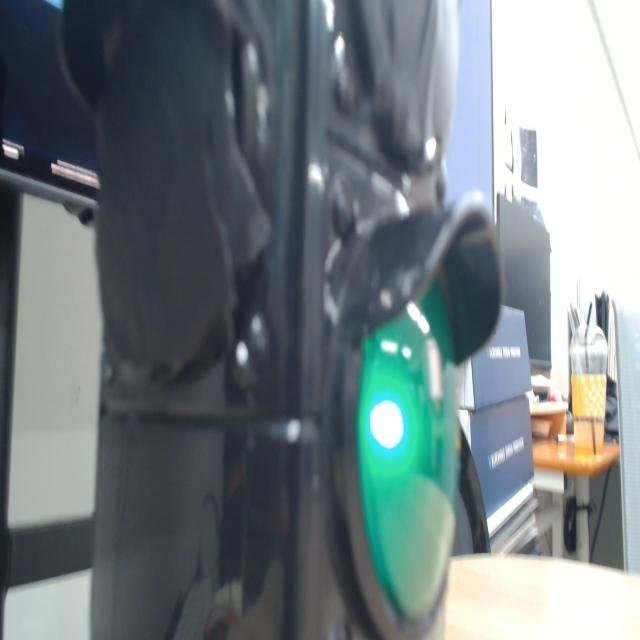green_light: (358, 287, 458, 620), (370, 400, 403, 449)
